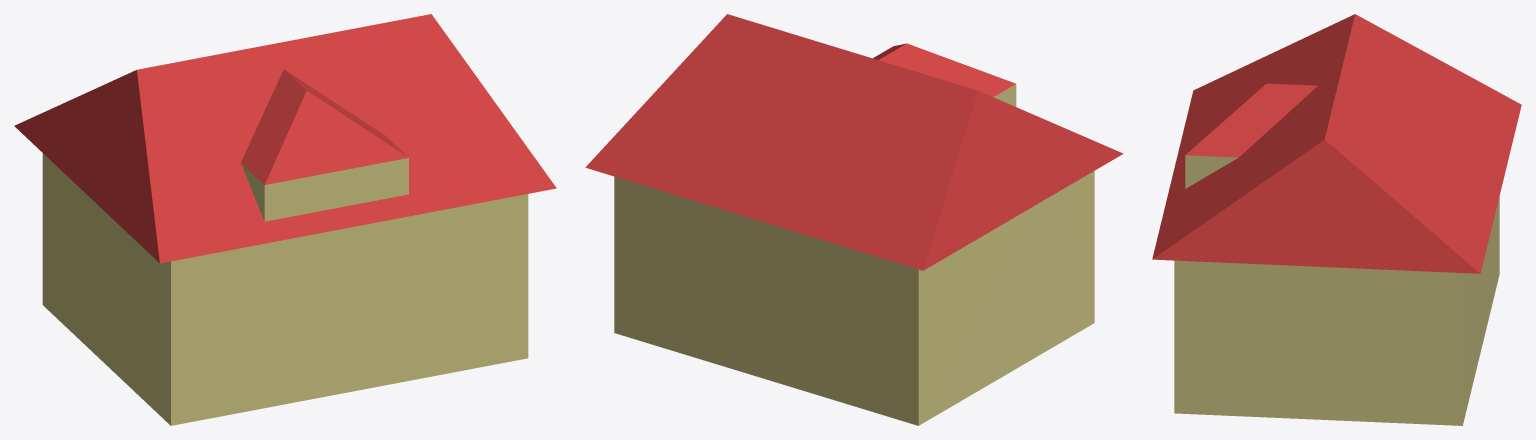
The picture shows the model from 3 angles, left to right: view 1: azimuth 30°, elevation 25°; view 2: azimuth 150°, elevation 25°; view 3: azimuth 270°, elevation 25°; orthographic projection. The views are drawn at different scales.
Size of the model in its own units: 16.25 by 13.84 by 11.03.
